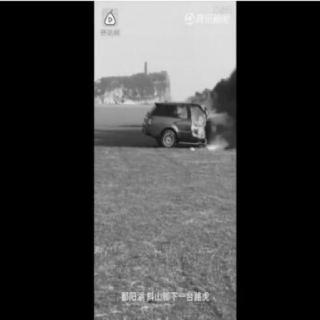Smoke: (216, 70, 236, 112)
